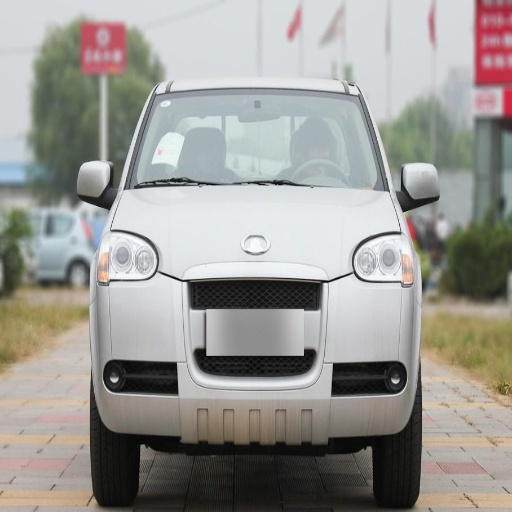front_bumper: (98, 271, 416, 440)
hood: (301, 188, 398, 280)
left_mirror: (400, 162, 440, 209)
right_mirror: (77, 161, 114, 207)
tailgate: (189, 185, 329, 264), (219, 274, 286, 302)
trunk: (263, 187, 344, 228)
